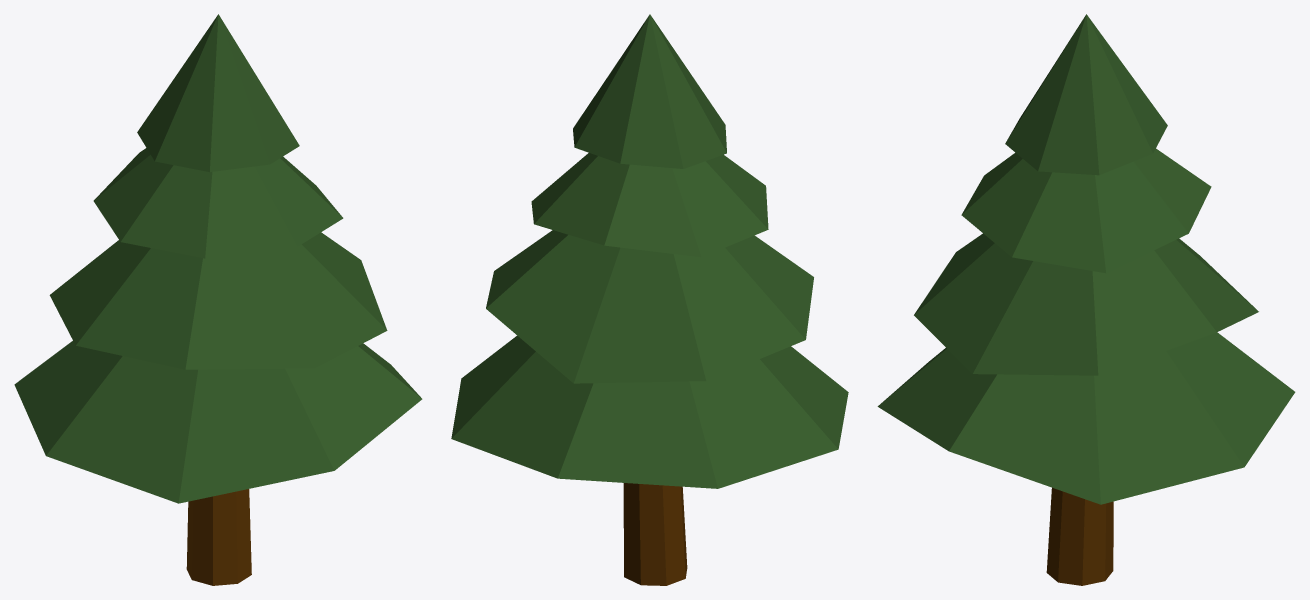
File: Tree8.fbx
3 renders of one model, left to right at view 1: azimuth 30°, elevation 25°; view 2: azimuth 150°, elevation 25°; view 3: azimuth 270°, elevation 25°, orthographic.
Visible parts, largest first — view 1: Tree8; view 2: Tree8; view 3: Tree8.
Boxes of the visible parts, box(x1,y1,x2,y2) form: Tree8: box(14, 14, 422, 585); Tree8: box(451, 14, 848, 585); Tree8: box(877, 14, 1295, 585).
Size of the model in its own units: 199 by 293 by 199.
